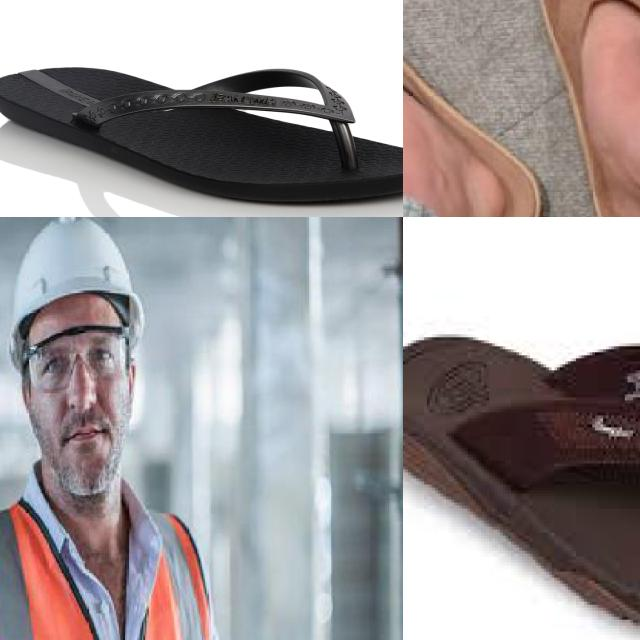No_Ear-Protection: (20, 364, 34, 422), (127, 352, 138, 411)
Sandals: (403, 240, 640, 640), (0, 62, 403, 206), (403, 0, 543, 217), (512, 0, 640, 217)
face_nomask: (31, 364, 130, 502)
glasses: (23, 326, 129, 392)
head_helmet: (10, 217, 143, 366)
